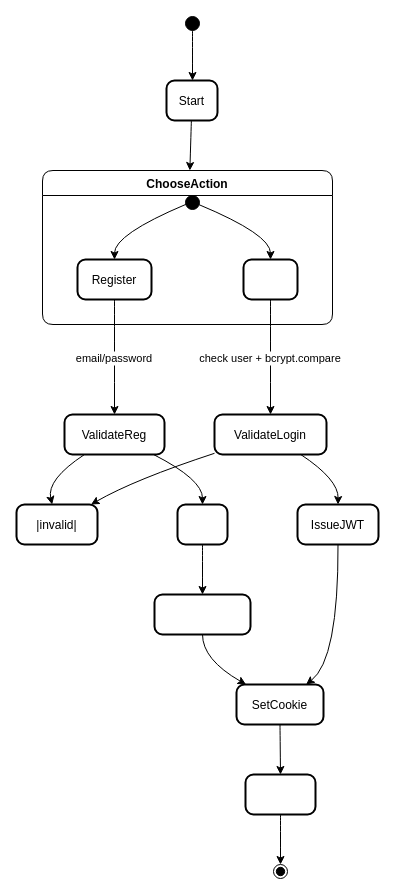
Image size: 395x895. Some labels were removed from this diagram. Each missing label, with the box of its shape:
CreateUser: (153, 593, 251, 635)
Hash: (176, 503, 228, 545)
Login: (242, 258, 298, 300)
Success: (244, 773, 316, 815)
